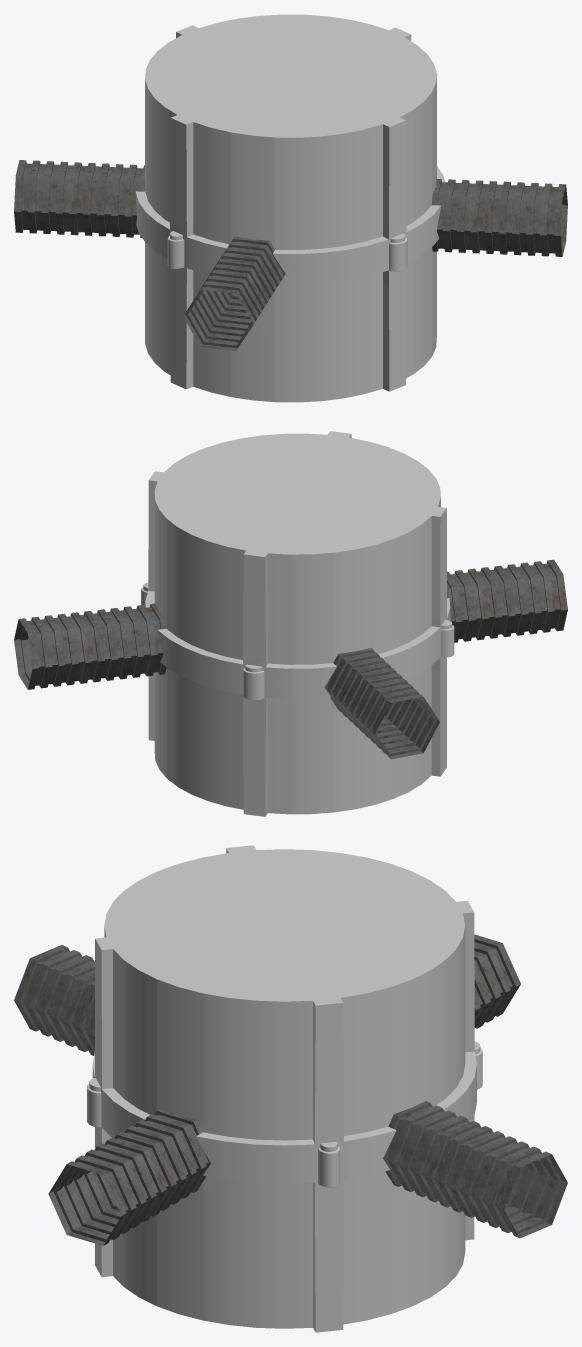
Rendered from Sala Do Gerador.fbx.
3 renders of one model, top to bottom at view 1: azimuth 30°, elevation 25°; view 2: azimuth 150°, elevation 25°; view 3: azimuth 270°, elevation 25°, orthographic. The views are drawn at different scales.
Parts seen in each view (by area): view 1: ns2, Cilindro_Hex3, Cilindro_Hex2, Cilindro_Hex, pCylinder9, pCylinder11; view 2: ns2, Cilindro_Hex1, Cilindro_Hex, Cilindro_Hex2, pCylinder1, pCylinder11; view 3: ns2, Cilindro_Hex1, Cilindro_Hex3, Cilindro_Hex, Cilindro_Hex2, pCylinder10, pCylinder9.
Part boxes in pixels (x1=…): ns2: x1=135, y1=14, x2=445, y2=402; Cilindro_Hex3: x1=431, y1=179, x2=567, y2=256; Cilindro_Hex2: x1=14, y1=160, x2=144, y2=237; Cilindro_Hex: x1=183, y1=236, x2=285, y2=350; pCylinder9: x1=389, y1=233, x2=407, y2=271; pCylinder11: x1=167, y1=231, x2=184, y2=268; ns2: x1=145, y1=431, x2=450, y2=816; Cilindro_Hex1: x1=14, y1=603, x2=166, y2=689; Cilindro_Hex: x1=447, y1=559, x2=567, y2=642; Cilindro_Hex2: x1=324, y1=648, x2=439, y2=759; pCylinder1: x1=243, y1=664, x2=264, y2=700; pCylinder11: x1=441, y1=619, x2=454, y2=657; ns2: x1=92, y1=845, x2=476, y2=1332; Cilindro_Hex1: x1=383, y1=1101, x2=567, y2=1238; Cilindro_Hex3: x1=48, y1=1109, x2=210, y2=1245; Cilindro_Hex: x1=14, y1=945, x2=94, y2=1055; Cilindro_Hex2: x1=474, y1=934, x2=520, y2=1028; pCylinder10: x1=318, y1=1142, x2=339, y2=1187; pCylinder9: x1=87, y1=1078, x2=101, y2=1127.
Size of the model in its own units: 667 by 400 by 614.
